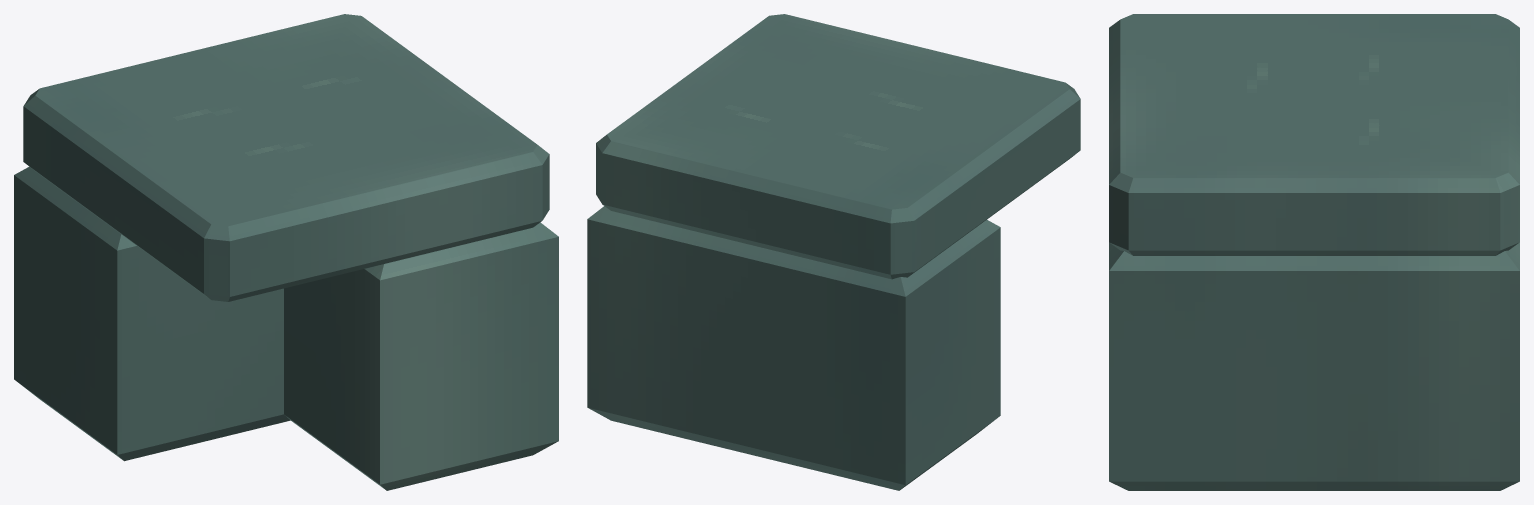
Rendered from relic.glb.
3 views of the same model, side by side, from view 1: azimuth 30°, elevation 25°; view 2: azimuth 150°, elevation 25°; view 3: azimuth 270°, elevation 25° (orthographic). The views are drawn at different scales.
Visible parts, largest first — view 1: Body.Metal; view 2: Body.Metal; view 3: Body.Metal.
Boxes of the visible parts, left/top/right/bottom form: Body.Metal: left=14, top=14, right=558, bottom=490; Body.Metal: left=587, top=14, right=1080, bottom=490; Body.Metal: left=1109, top=14, right=1519, bottom=490.
Bounding box in the file's own units: 0.1581 × 0.1344 × 0.1581.
Materials: 1 (1 with a texture image).
